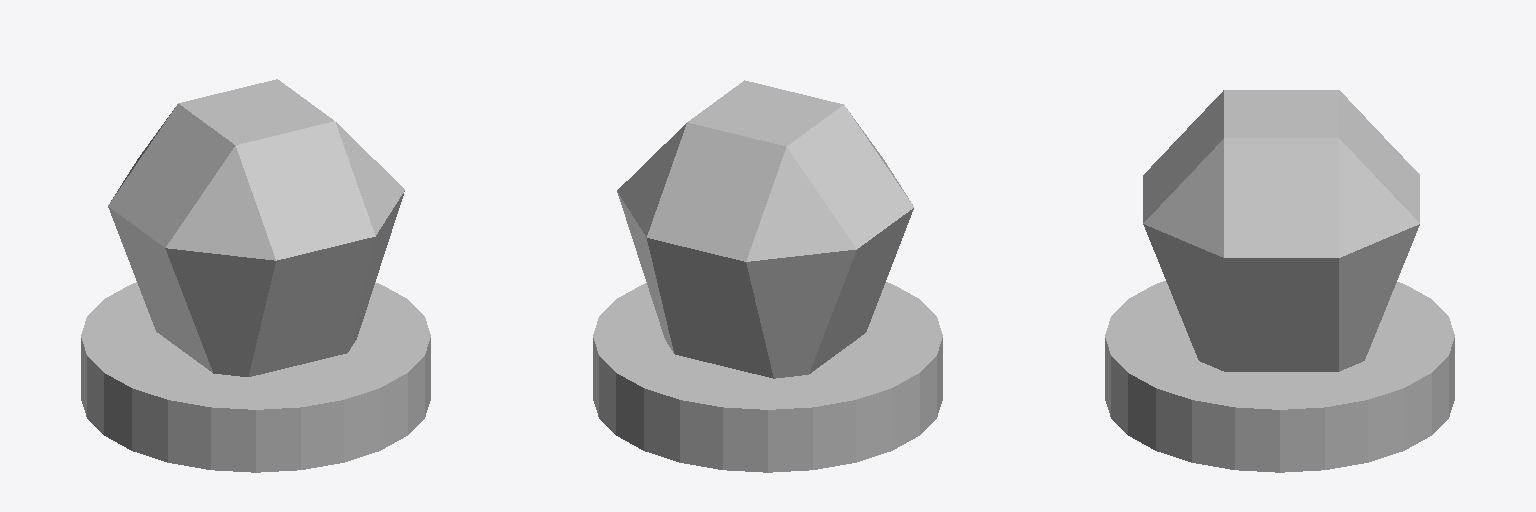
The model's file is gems_emerald_4.obj.
3 renders of one model, left to right at view 1: azimuth 30°, elevation 25°; view 2: azimuth 150°, elevation 25°; view 3: azimuth 270°, elevation 25°, orthographic.
Parts seen in each view (by area): view 1: mergedBlocks; view 2: mergedBlocks; view 3: mergedBlocks.
Part boxes in pixels (left/top/right/bottom): mergedBlocks: left=81, top=79, right=430, bottom=472; mergedBlocks: left=593, top=80, right=942, bottom=472; mergedBlocks: left=1105, top=90, right=1454, bottom=472.
Bounding box in the file's own units: 1 × 0.9 × 1.